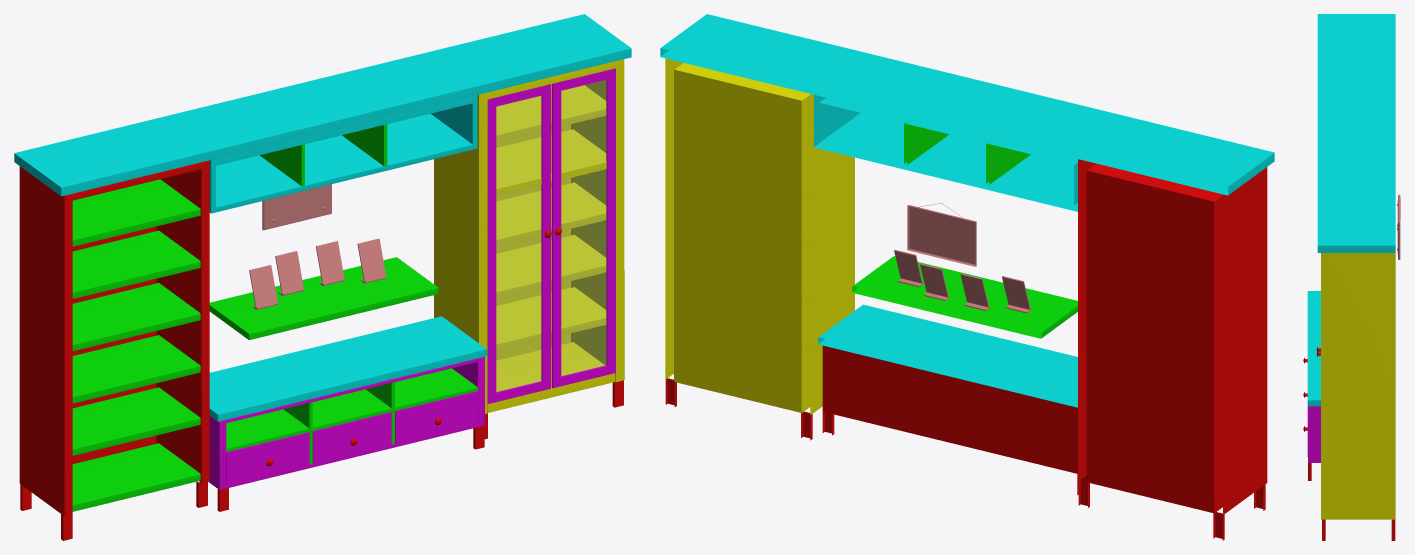
Rendered from bookshelf_geo.fbx.
3 renders of one model, left to right at view 1: azimuth 30°, elevation 25°; view 2: azimuth 150°, elevation 25°; view 3: azimuth 270°, elevation 25°, orthographic. The views are drawn at different scales.
Visible parts, largest first — view 1: Bookshelf_geo, Wall_plaque, Book_slot_3_geo, Book_slot_4_geo, Book_slot_2_geo, Book_slot_1_geo; view 2: Bookshelf_geo, Wall_plaque, Book_slot_1_geo, Book_slot_4_geo, Book_slot_3_geo, Book_slot_2_geo; view 3: Bookshelf_geo, Wall_plaque.
Part boxes in pixels (box(x1,y1,x2,y2)): Bookshelf_geo: box(14, 14, 631, 540); Wall_plaque: box(262, 184, 331, 230); Book_slot_3_geo: box(315, 241, 345, 285); Book_slot_4_geo: box(357, 238, 386, 283); Book_slot_2_geo: box(275, 251, 304, 295); Book_slot_1_geo: box(249, 265, 278, 309); Bookshelf_geo: box(660, 14, 1274, 540); Wall_plaque: box(907, 202, 976, 266); Book_slot_1_geo: box(1002, 276, 1031, 313); Book_slot_4_geo: box(894, 249, 923, 286); Book_slot_3_geo: box(920, 263, 949, 300); Book_slot_2_geo: box(960, 273, 989, 310); Bookshelf_geo: box(1303, 14, 1395, 540); Wall_plaque: box(1397, 194, 1400, 259).
Bounding box in the file's own units: 421 × 252 × 74.63.
